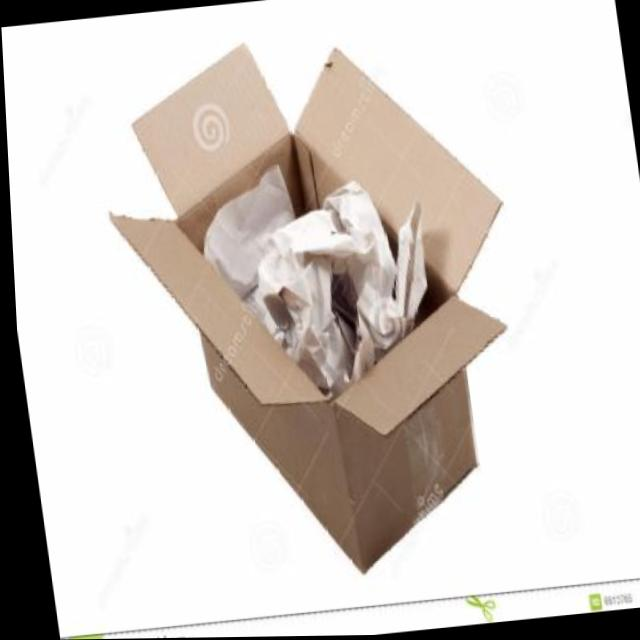box: (67, 13, 557, 619)
